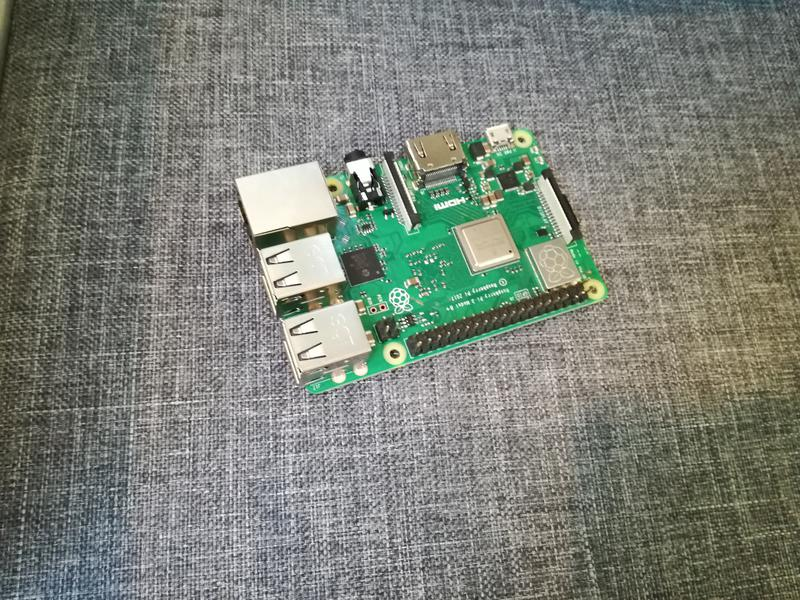Raspberry_Pi_3: (231, 123, 619, 398)
